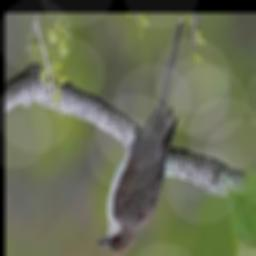Cuckoo: (98, 19, 184, 254)
